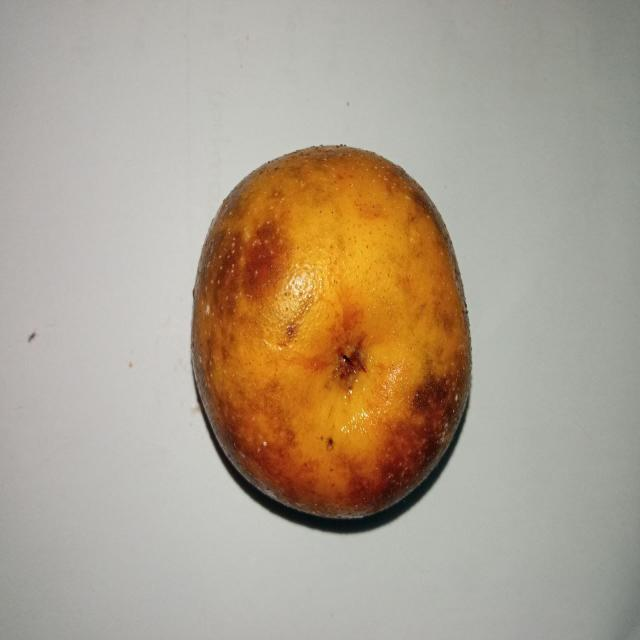rotten_apple: (185, 140, 473, 522)
